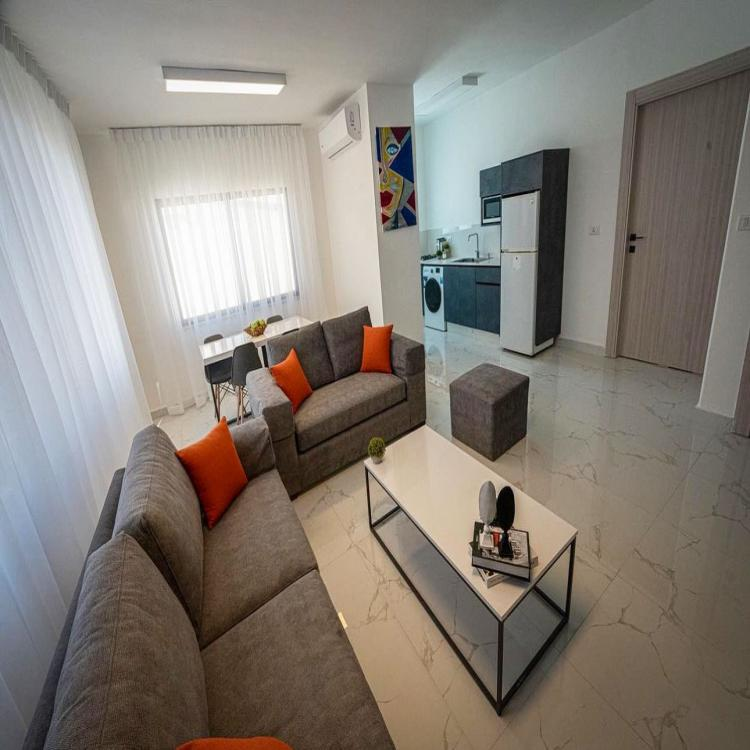ClosedDoor: (606, 37, 750, 363)
